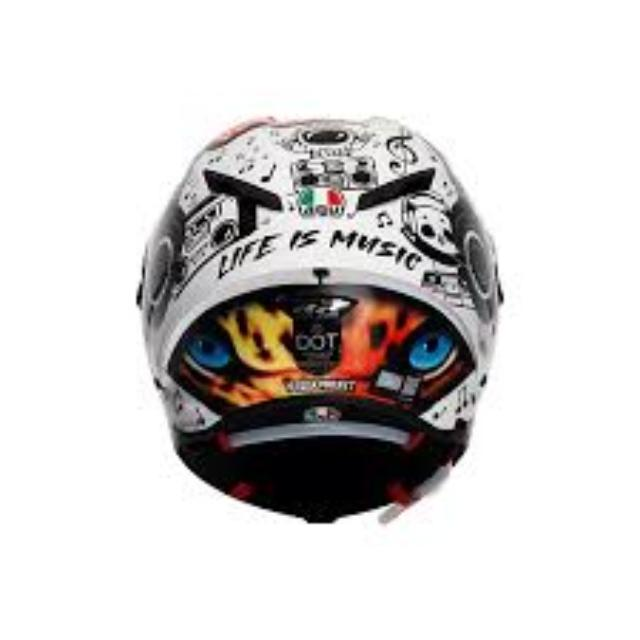motorcycle-helmets: (137, 117, 501, 521)
